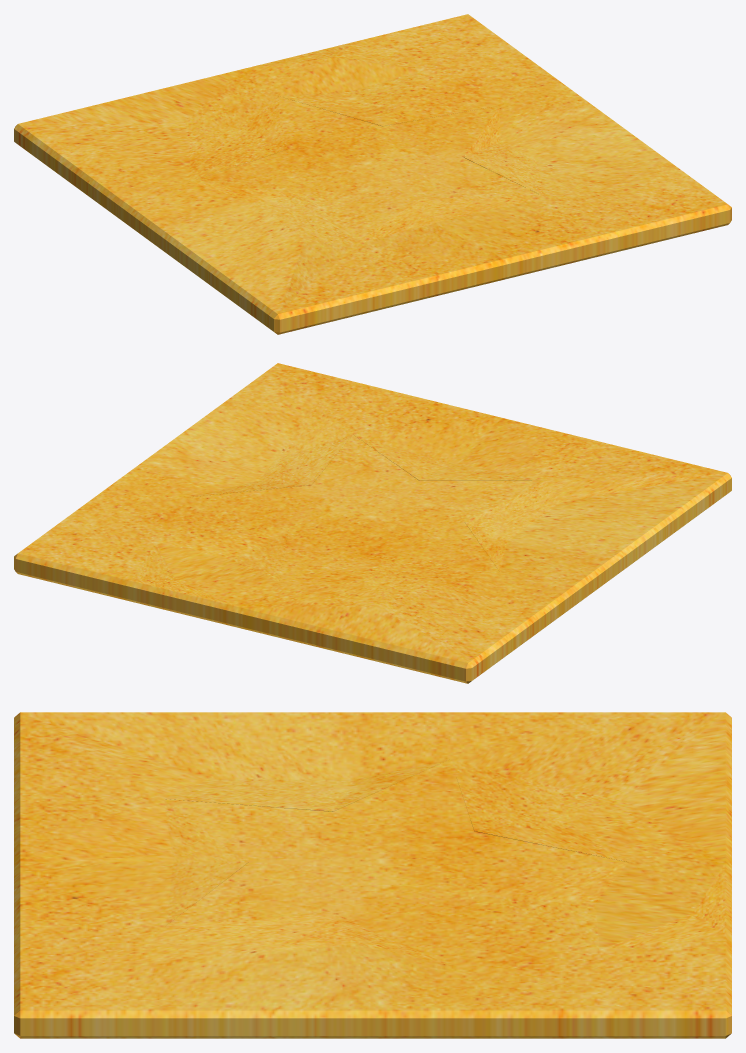
Rendered from keo_sao.fbx.
The picture shows the model from 3 angles, top to bottom: view 1: azimuth 30°, elevation 25°; view 2: azimuth 150°, elevation 25°; view 3: azimuth 270°, elevation 25°; orthographic projection. The views are drawn at different scales.
Parts seen in each view (by area): view 1: adasd_005, adasd_002, adasd_001, adasd_003, adasd_004; view 2: adasd_005, adasd_001, adasd_004, adasd_002, adasd_003; view 3: adasd_005, adasd_001, adasd_003, adasd_002, adasd_004.
Boxes of the visible parts, x1,y1,x2,y2 form: adasd_005: [354, 109, 731, 307]; adasd_002: [79, 171, 392, 334]; adasd_001: [243, 14, 597, 156]; adasd_003: [189, 96, 544, 244]; adasd_004: [14, 69, 287, 188]; adasd_005: [148, 363, 614, 484]; adasd_001: [14, 458, 311, 628]; adasd_004: [240, 553, 536, 683]; adasd_002: [465, 445, 731, 632]; adasd_003: [189, 435, 545, 582]; adasd_005: [14, 787, 372, 1038]; adasd_001: [334, 861, 731, 1038]; adasd_003: [163, 759, 627, 965]; adasd_002: [14, 712, 548, 811]; adasd_004: [450, 712, 731, 866].
Bounding box in the file's own units: 142 × 6.52 × 142.
